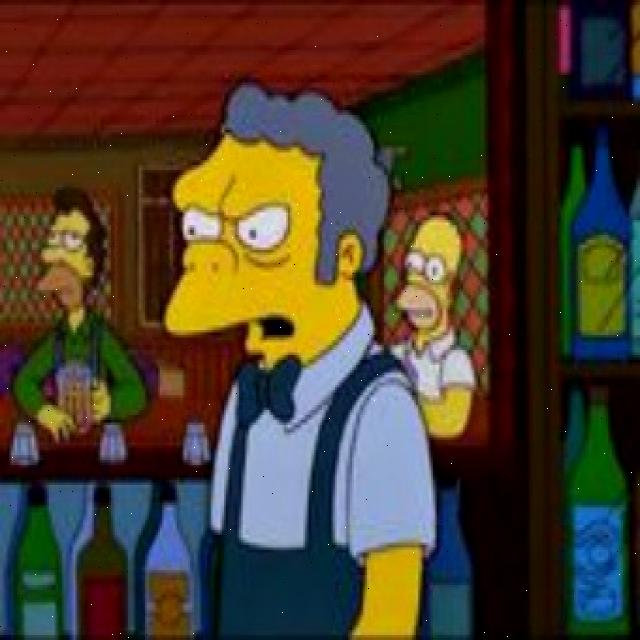Homer Simpson: (396, 205, 462, 340)
